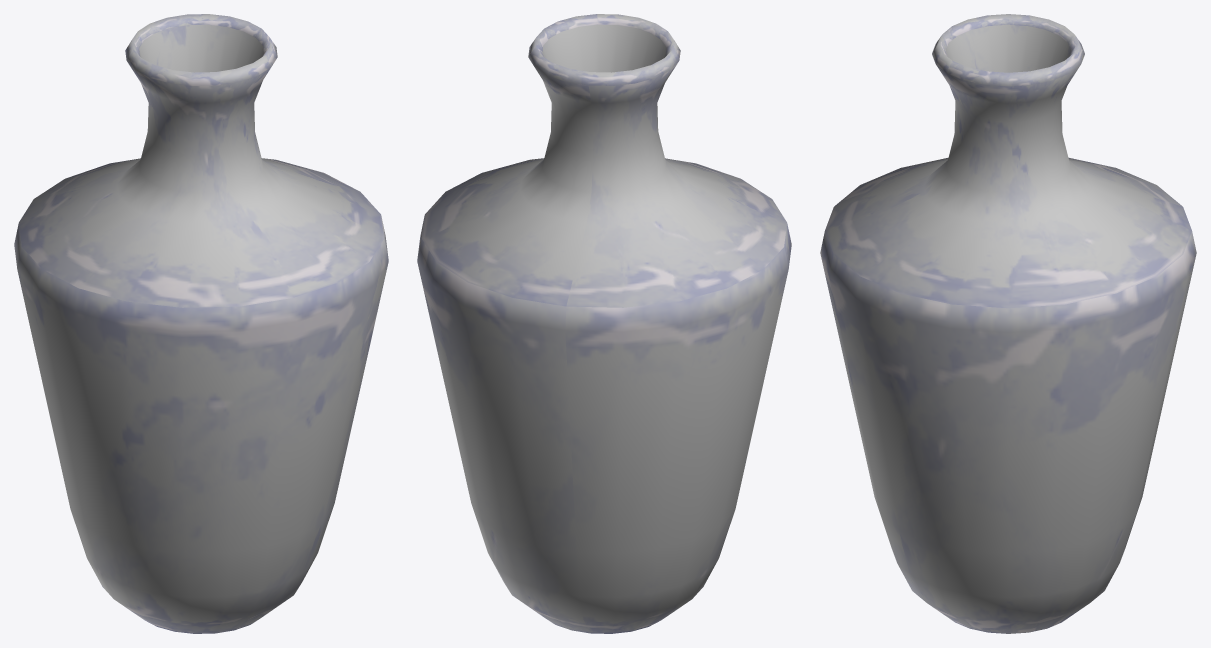
Rendered from Vase_3.fbx.
3 views of the same model, side by side, from view 1: azimuth 30°, elevation 25°; view 2: azimuth 150°, elevation 25°; view 3: azimuth 270°, elevation 25° (orthographic).
Parts seen in each view (by area): view 1: Vase_3; view 2: Vase_3; view 3: Vase_3.
Part boxes in pixels (bbox=[...]): Vase_3: bbox=[14, 14, 388, 633]; Vase_3: bbox=[417, 14, 791, 633]; Vase_3: bbox=[820, 14, 1196, 633].
Bounding box in the file's own units: 55.54 × 91.61 × 55.54.
